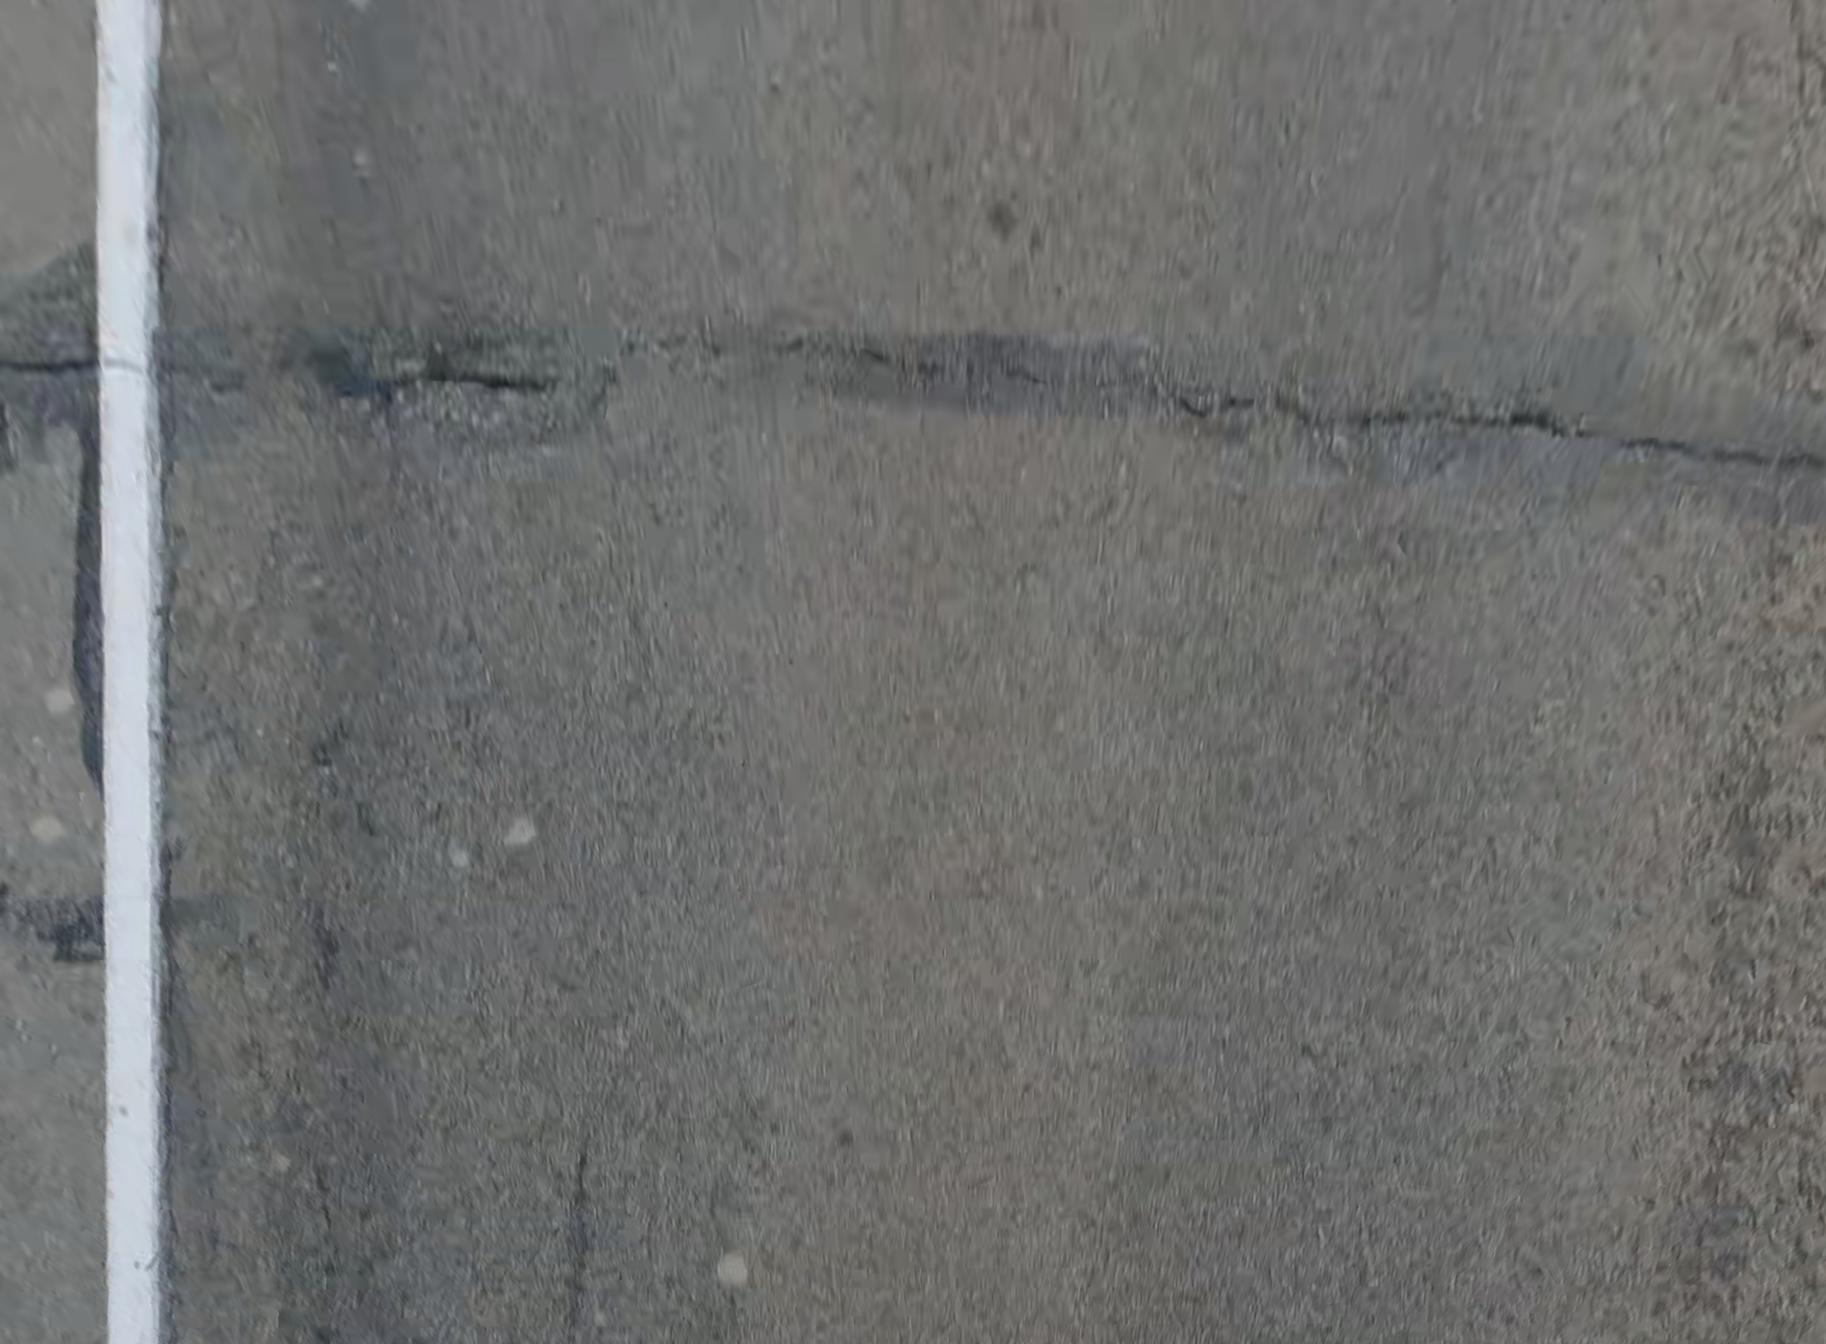pothole_patch_poor: (285, 326, 614, 442)
